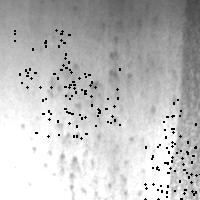pitted_surface: (24, 38, 147, 195), (171, 1, 199, 198), (14, 29, 73, 87), (144, 141, 200, 200), (65, 67, 119, 125), (35, 86, 85, 137), (157, 99, 200, 156), (166, 151, 200, 200)
